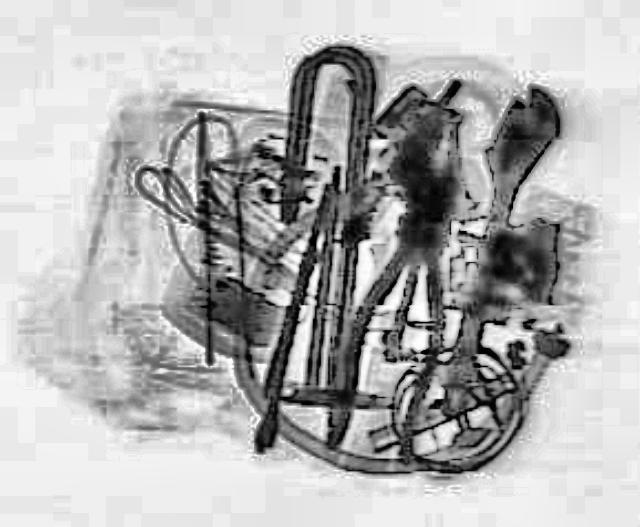Pliers: (311, 110, 493, 466)
Wrench: (416, 77, 568, 419)
